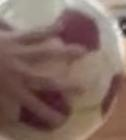Sports-Ball: (10, 6, 114, 126)
